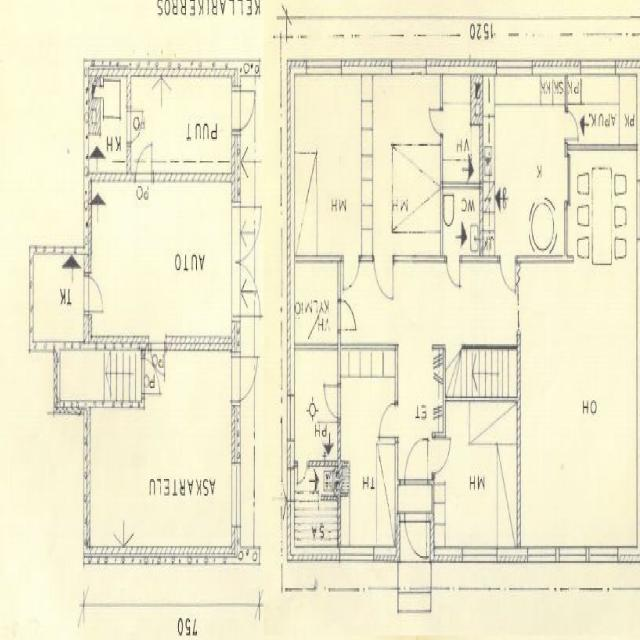door: (232, 207, 266, 262), (232, 262, 266, 316), (232, 356, 261, 402), (405, 512, 427, 569), (405, 430, 427, 485), (232, 90, 259, 132), (374, 254, 393, 302), (83, 276, 105, 312), (135, 137, 152, 182), (141, 358, 161, 394), (499, 254, 516, 296), (344, 254, 359, 295), (432, 439, 450, 473), (380, 404, 398, 438), (127, 112, 146, 144), (322, 386, 341, 418), (337, 300, 355, 330), (151, 343, 164, 380), (565, 111, 581, 141), (446, 254, 460, 288), (297, 460, 309, 491), (429, 109, 443, 135)
